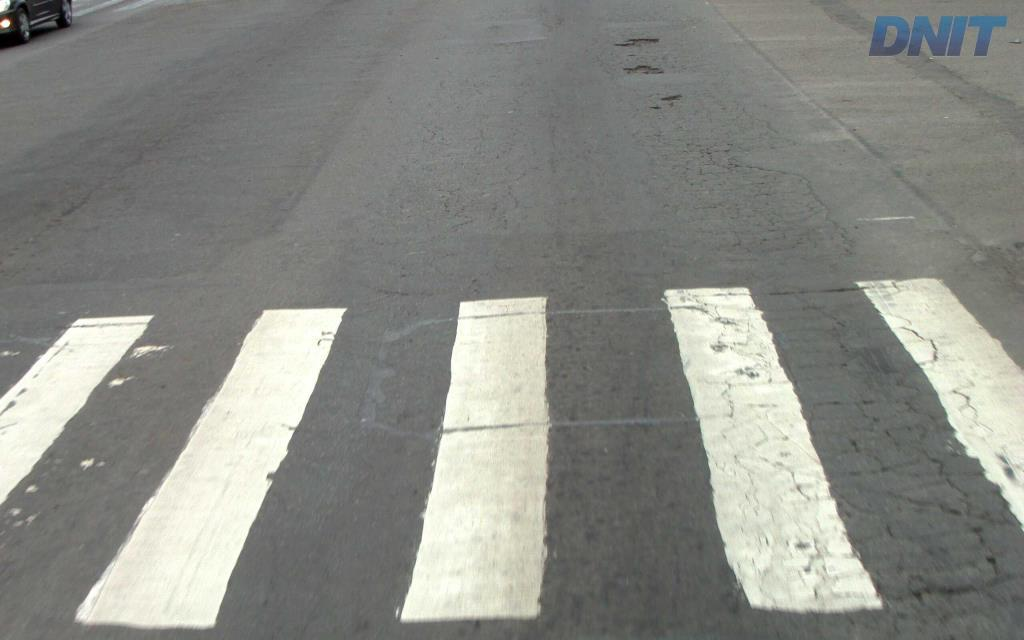crack: (907, 547, 1013, 606)
pothole: (611, 33, 661, 51), (622, 62, 666, 76), (660, 94, 684, 100), (648, 101, 661, 110)
